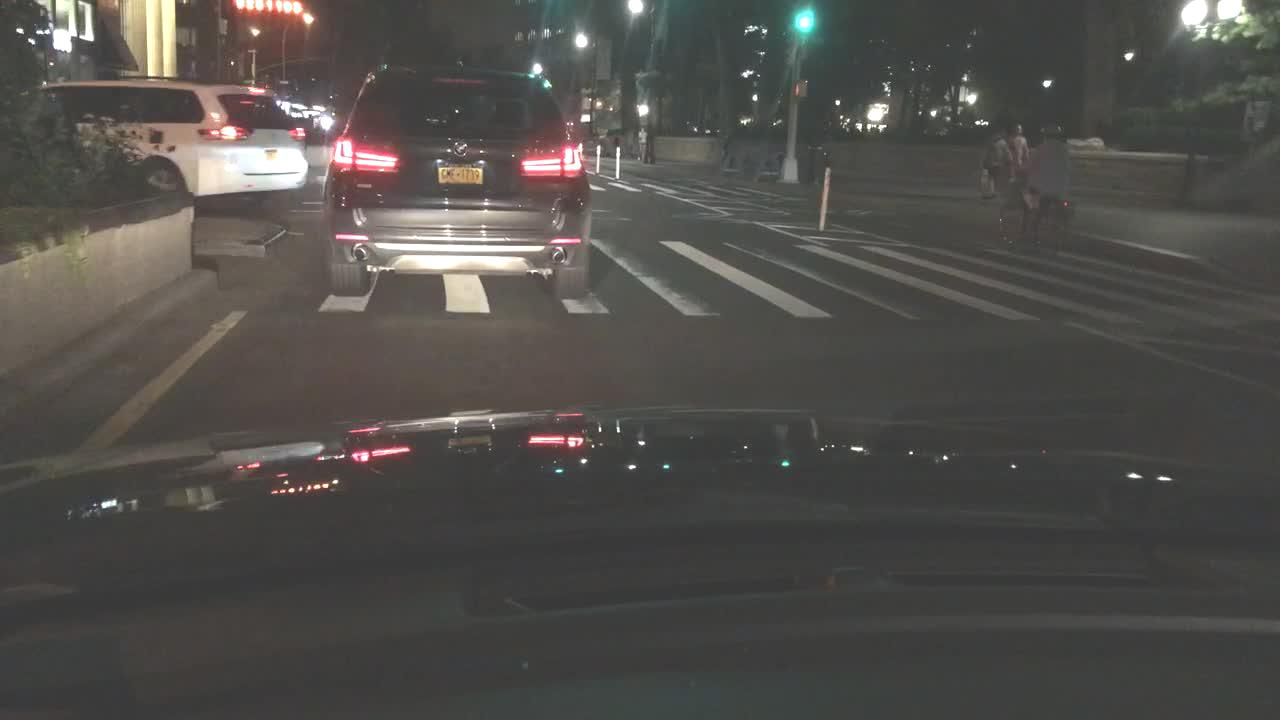bmw: (446, 136, 471, 157)
